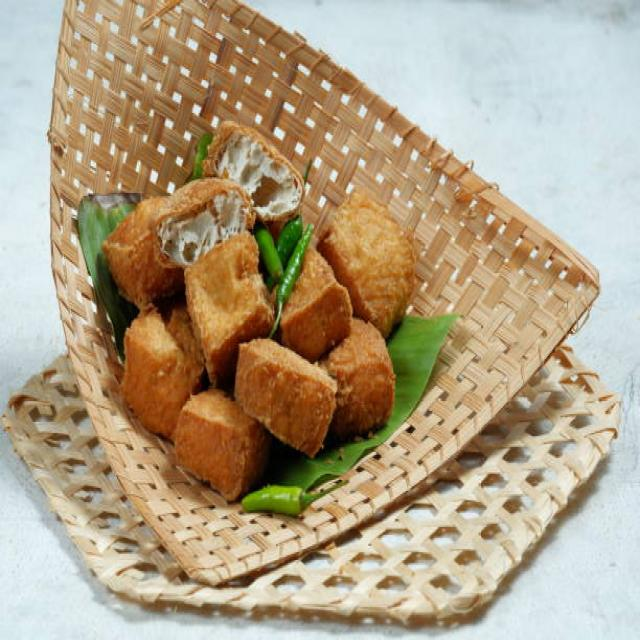tofu: (322, 190, 416, 331), (235, 333, 337, 461), (184, 233, 262, 368)
